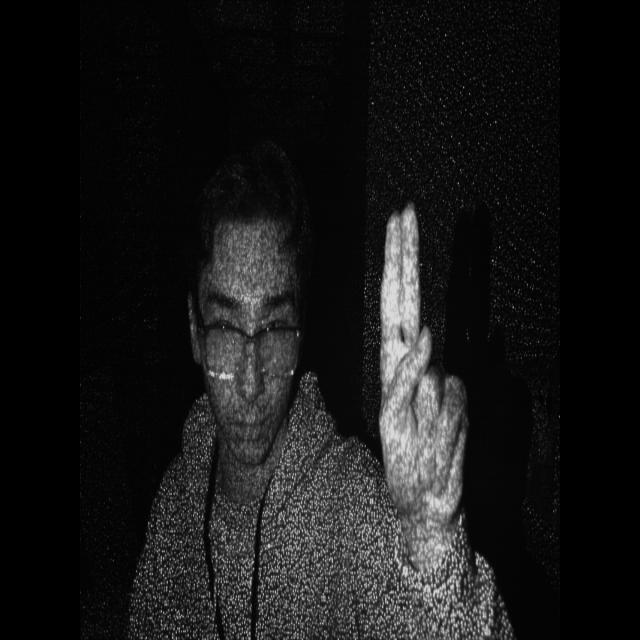U: (366, 169, 476, 564)
